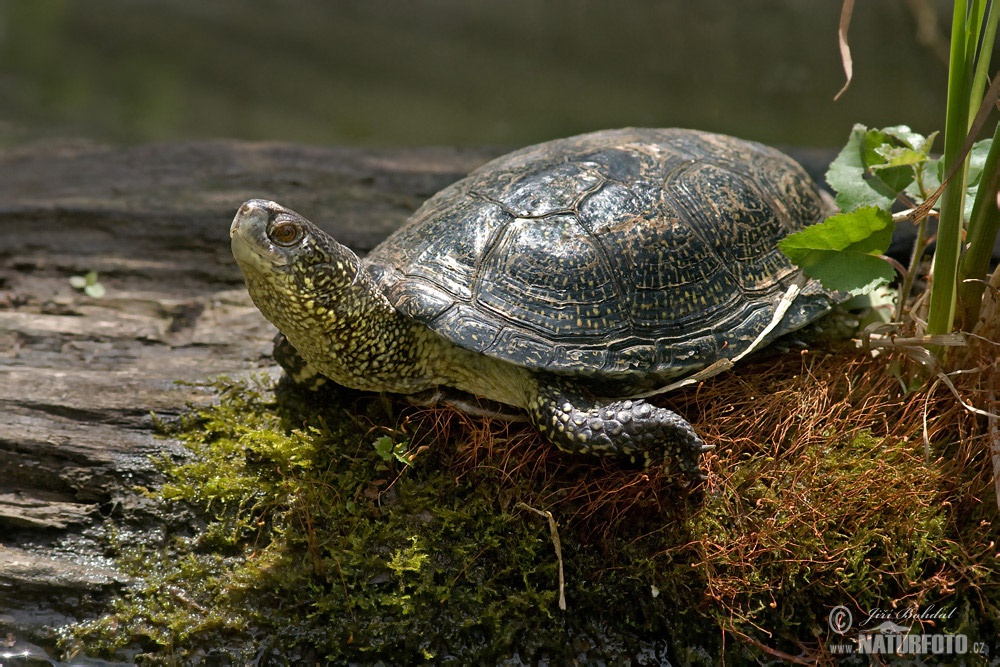eye: (265, 214, 309, 247)
mouth: (228, 224, 278, 280)
